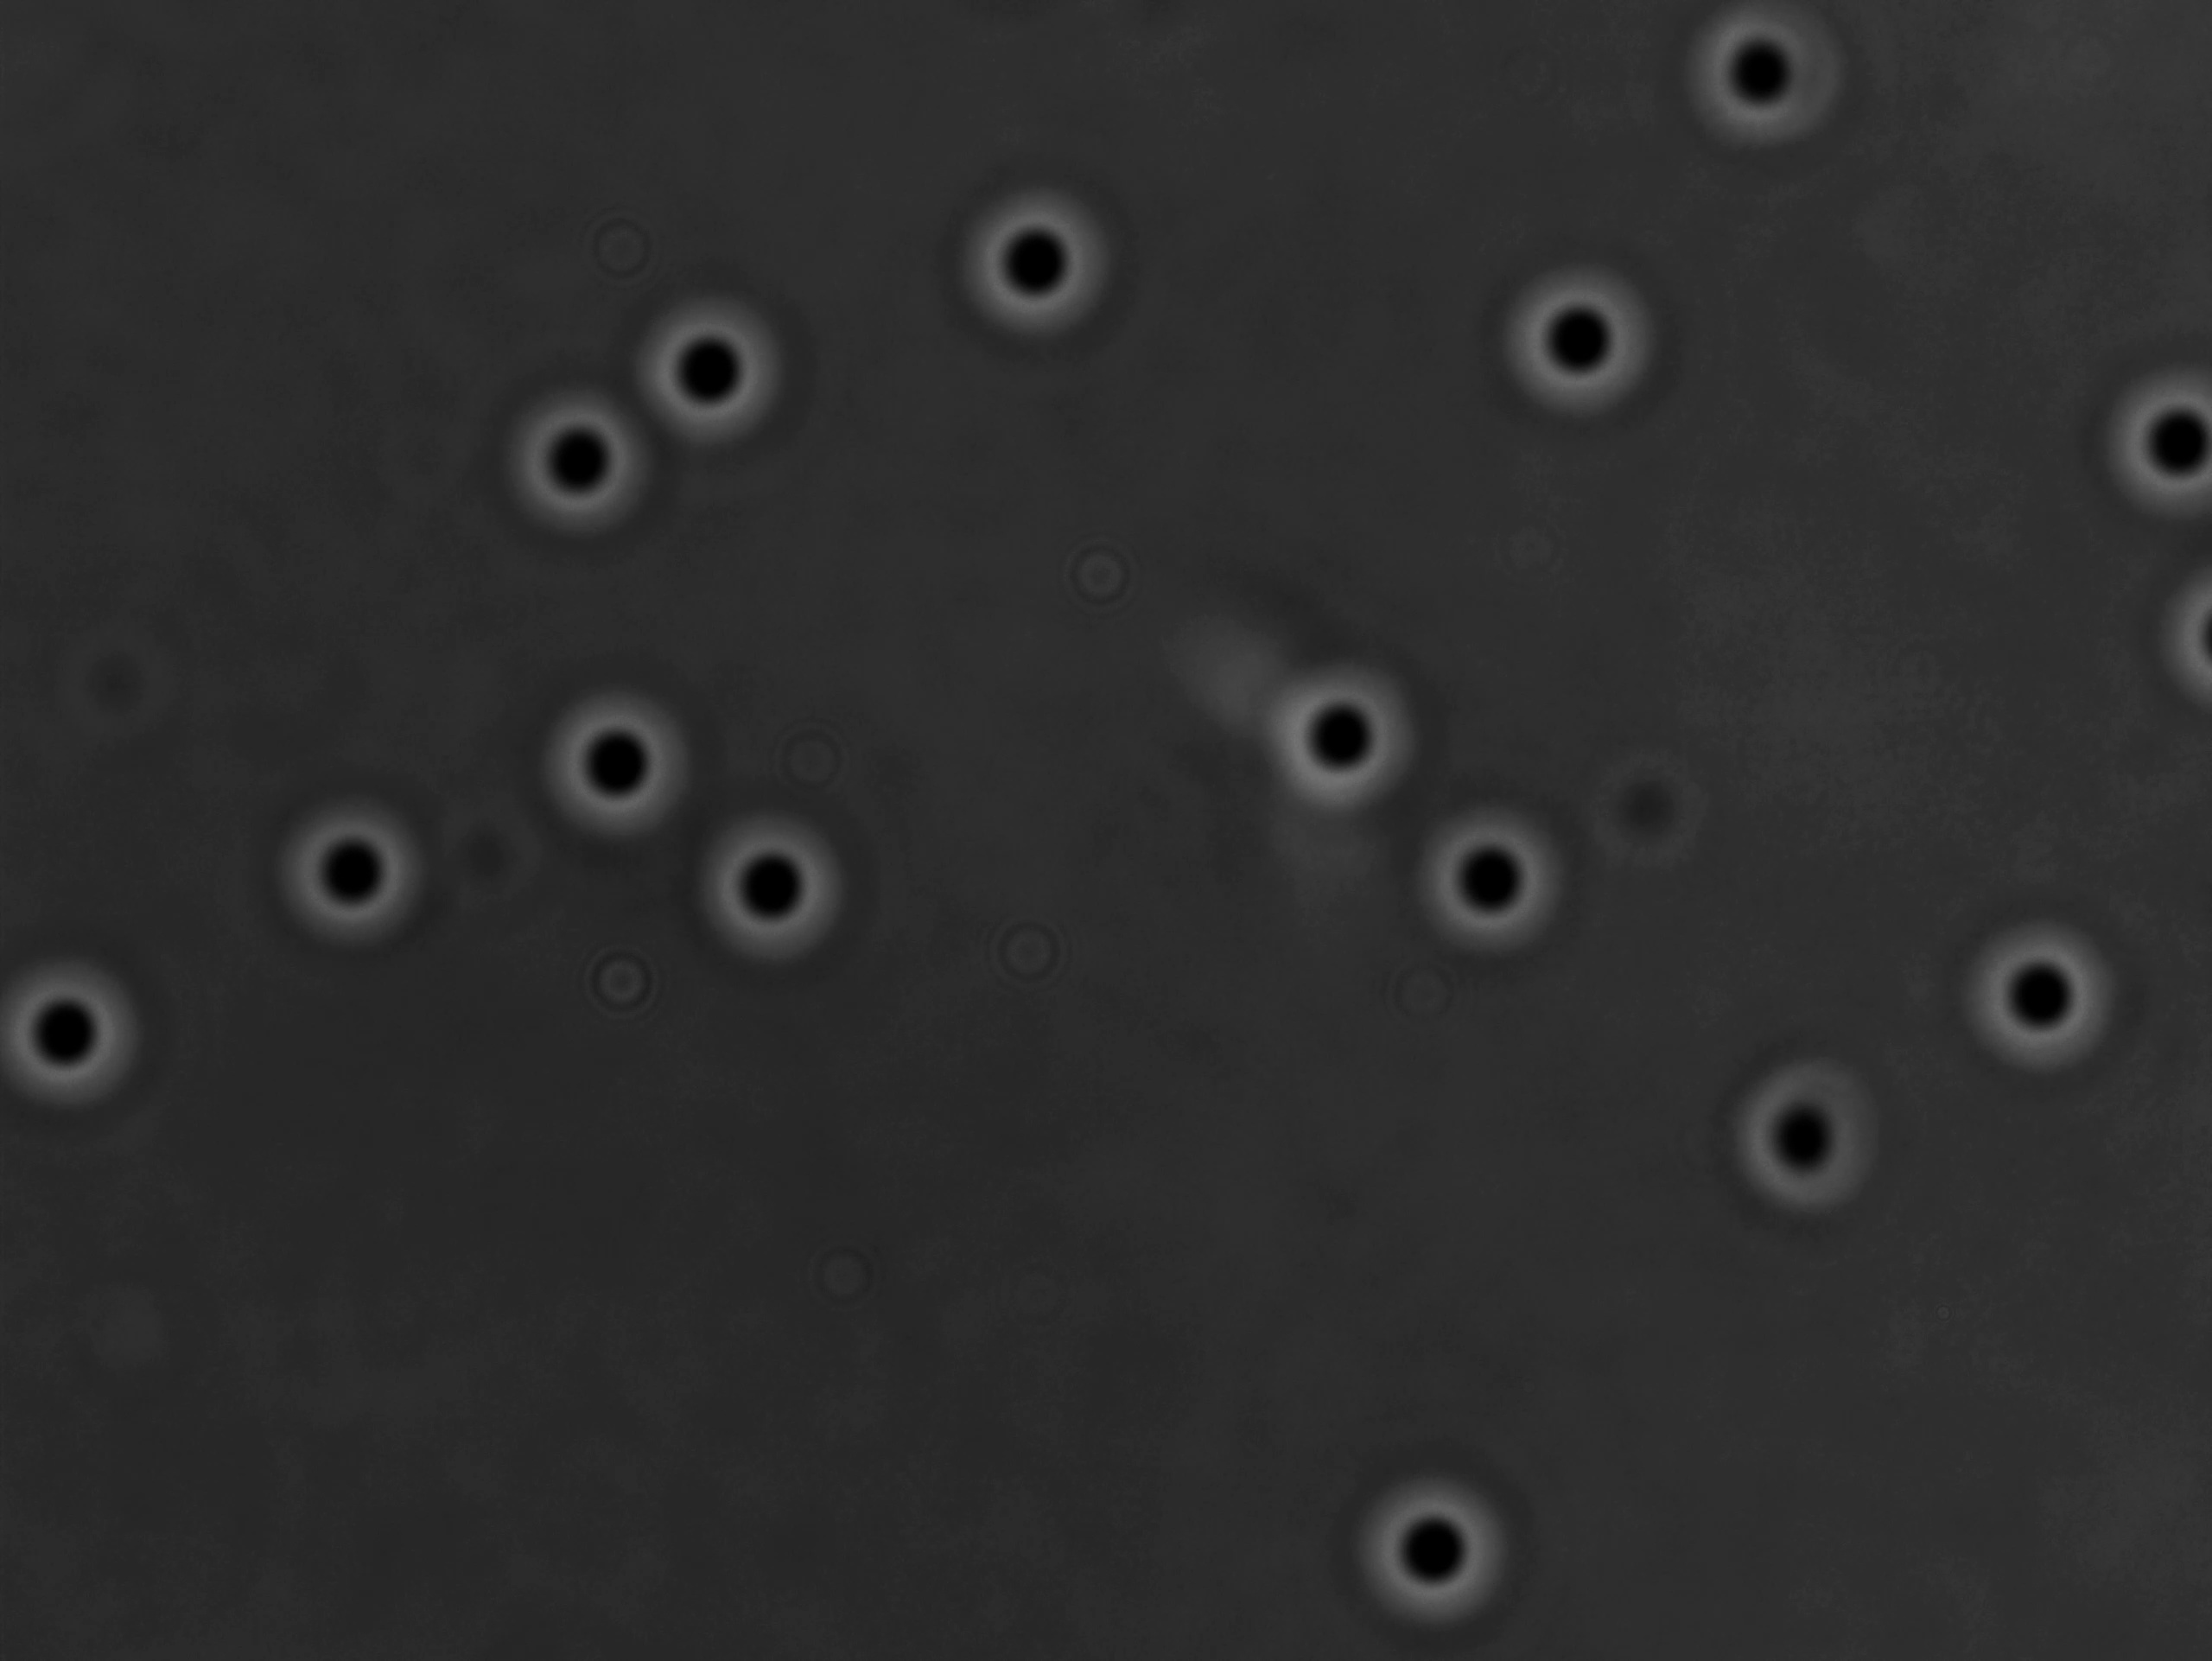depth:-80: (1689, 1036, 1908, 1249), (1947, 888, 2149, 1096), (1389, 761, 1591, 967), (670, 780, 872, 979), (611, 270, 811, 461), (933, 169, 1129, 363), (1251, 632, 1444, 827), (1483, 249, 1671, 450), (488, 356, 673, 546), (1333, 1455, 1537, 1626), (520, 675, 707, 855), (262, 790, 445, 961), (2081, 349, 2212, 529)
